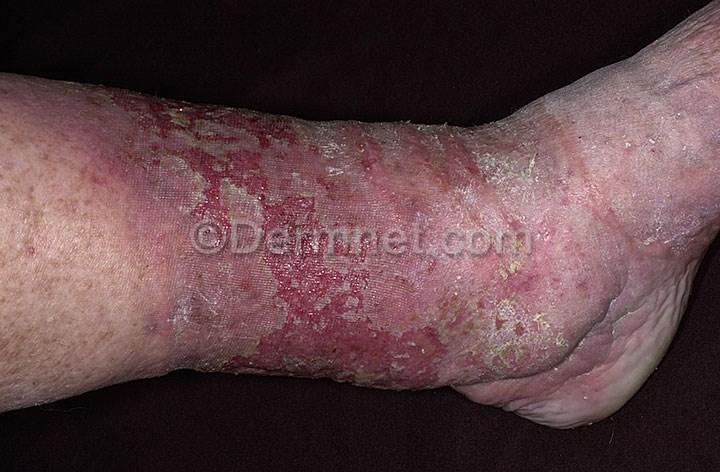Eczema: (140, 253, 429, 392), (298, 121, 519, 225), (105, 107, 298, 224), (430, 260, 572, 410), (0, 85, 109, 221), (605, 165, 720, 278)
